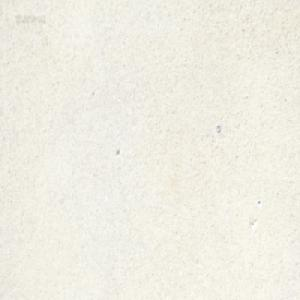Washer: (215, 123, 221, 133)
